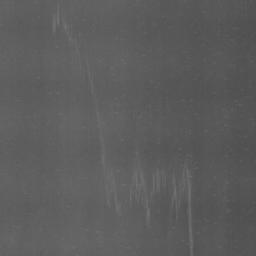Silk spot: (148, 168, 179, 216), (179, 191, 188, 242), (192, 160, 201, 186), (133, 192, 144, 211), (194, 200, 203, 219), (194, 235, 199, 256), (192, 187, 200, 197)
